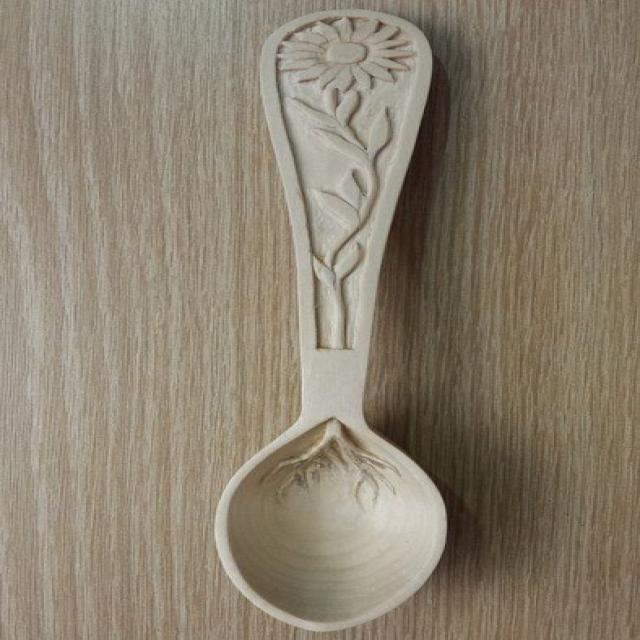spoon: (173, 0, 524, 640)
